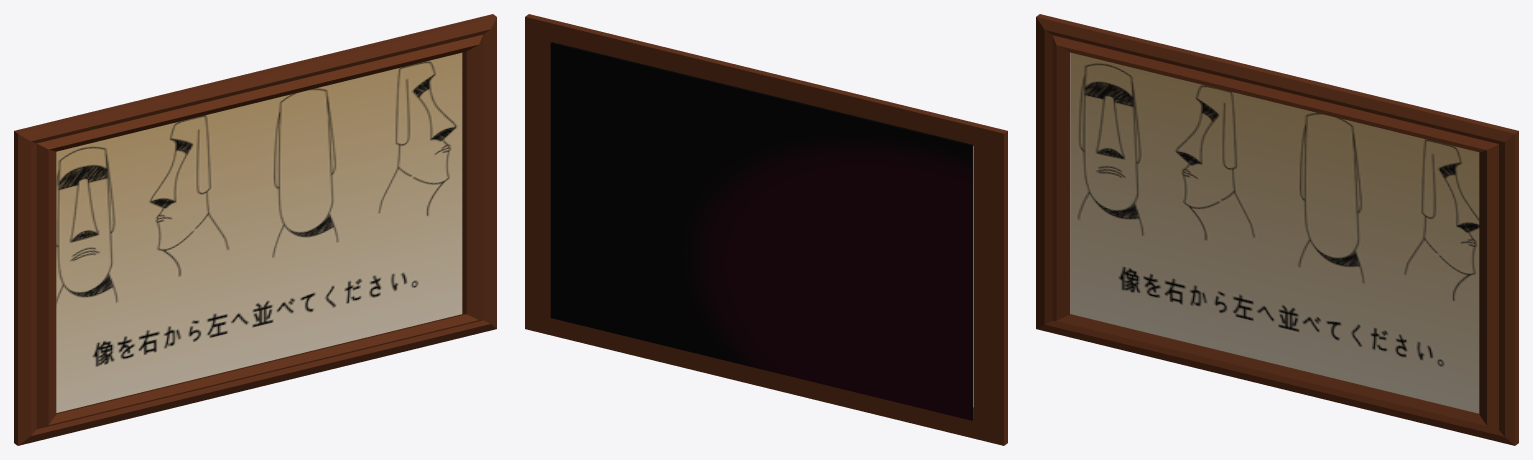
Rendered from code room 2 Frame.fbx.
3 views of the same model, side by side, from view 1: azimuth 30°, elevation 25°; view 2: azimuth 150°, elevation 25°; view 3: azimuth 330°, elevation 25° (orthographic).
Visible parts, largest first — view 1: Cube, Cube.001; view 2: Cube, Cube.001; view 3: Cube, Cube.001.
Part boxes in pixels (box(x1,y1,x2,y2)): Cube: box(56, 52, 462, 412); Cube.001: box(14, 14, 496, 445); Cube: box(550, 42, 972, 420); Cube.001: box(525, 14, 1007, 445); Cube: box(1071, 52, 1479, 413); Cube.001: box(1036, 14, 1518, 445).
Bounding box in the file's own units: 1137 × 708 × 42.3.
